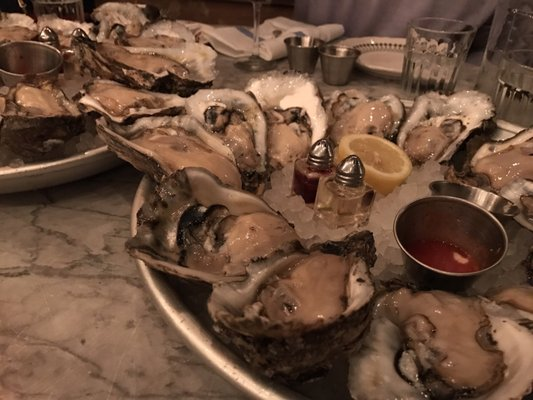pizza: (483, 0, 533, 131), (401, 17, 476, 99), (319, 45, 359, 86), (285, 32, 321, 76)
sushi: (393, 195, 508, 291), (334, 134, 413, 195), (0, 41, 64, 89)
